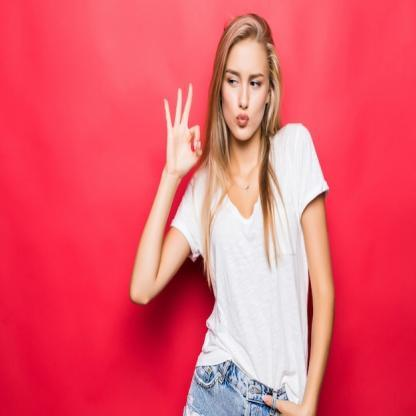ok: (161, 79, 204, 176)
